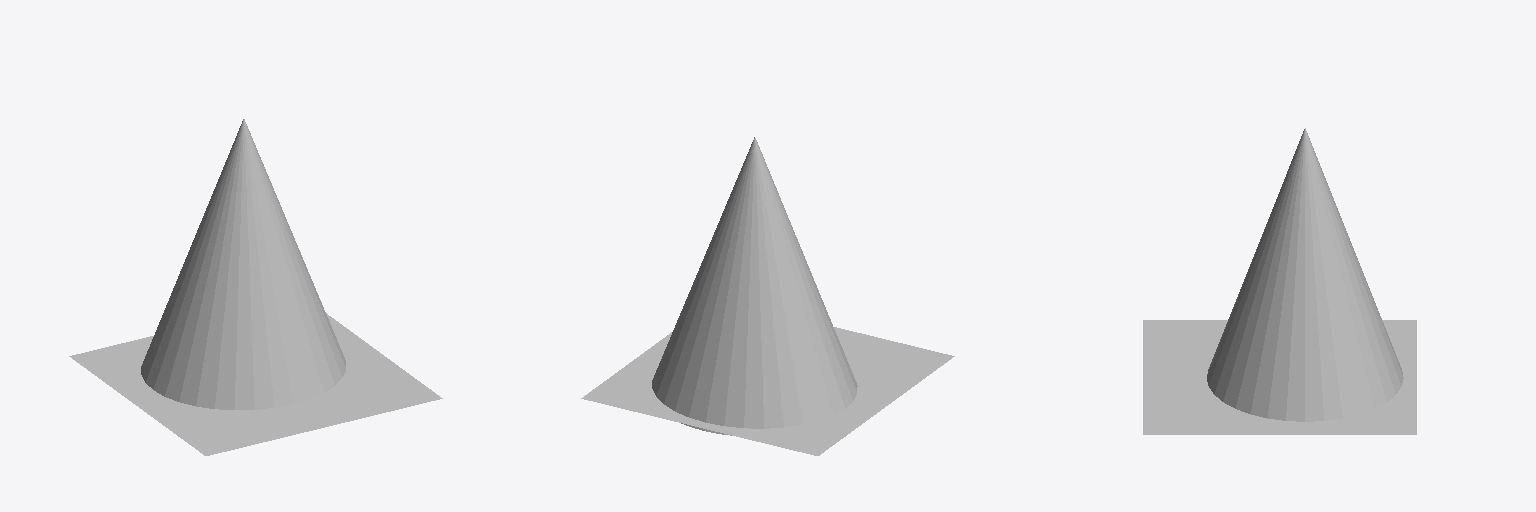
The model's file is tile4.obj.
The picture shows the model from 3 angles: view 1: azimuth 30°, elevation 25°; view 2: azimuth 150°, elevation 25°; view 3: azimuth 270°, elevation 25°; orthographic projection.
Visible parts, largest first — view 1: Plane; view 2: Plane; view 3: Plane.
Part boxes in pixels (left/top/right/bottom): Plane: left=69, top=119, right=442, bottom=455; Plane: left=581, top=137, right=954, bottom=455; Plane: left=1143, top=128, right=1416, bottom=434.
Bounding box in the file's own units: 32 × 33.24 × 32.